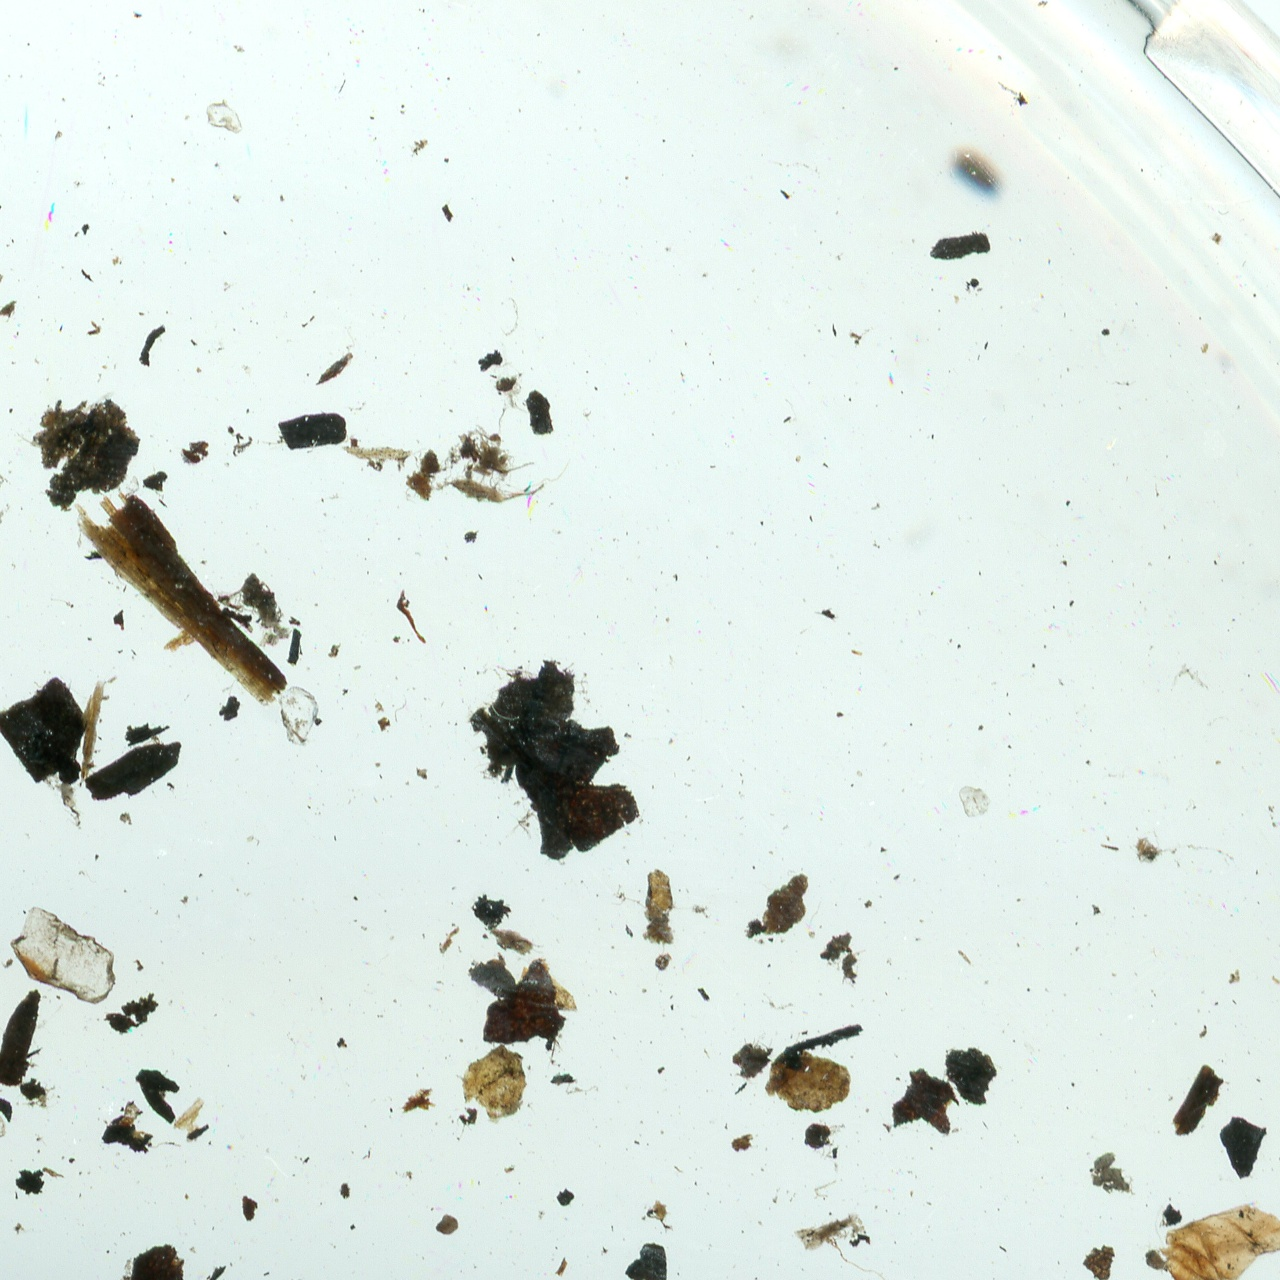arthropod: (54, 775, 82, 830)
